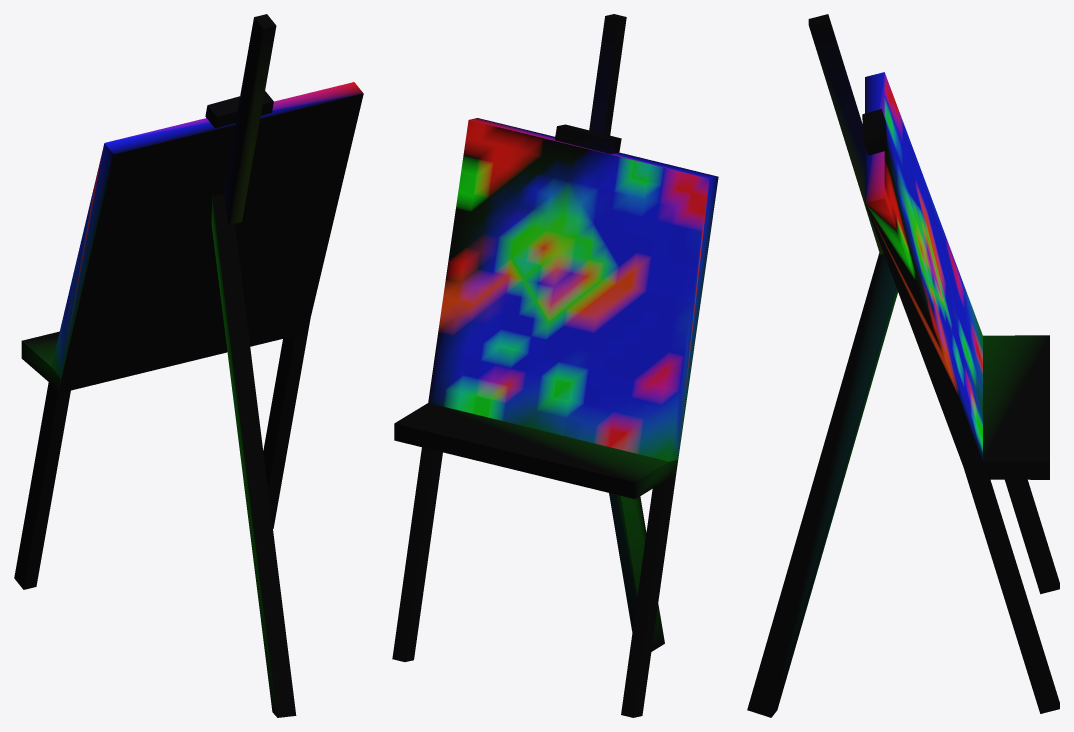
File: мольберт.fbx
3 renders of one model, left to right at view 1: azimuth 30°, elevation 25°; view 2: azimuth 150°, elevation 25°; view 3: azimuth 270°, elevation 25°, orthographic. The views are drawn at different scales.
Visible parts, largest first — view 1: мольберт; view 2: мольберт; view 3: мольберт.
Boxes of the visible parts, bbox=[...] form: мольберт: bbox=[14, 14, 363, 717]; мольберт: bbox=[392, 14, 718, 717]; мольберт: bbox=[747, 14, 1059, 717].
Bounding box in the file's own units: 18.27 × 46.16 × 18.7.
